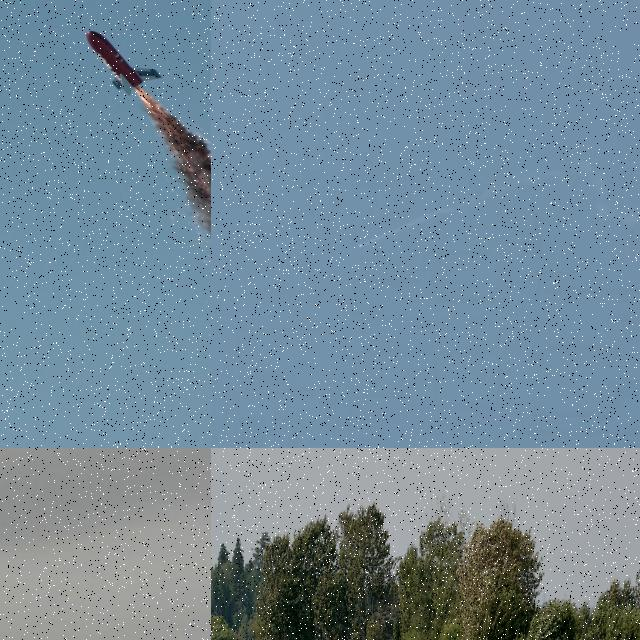Rocket: (85, 30, 163, 96), (358, 244, 362, 248)
